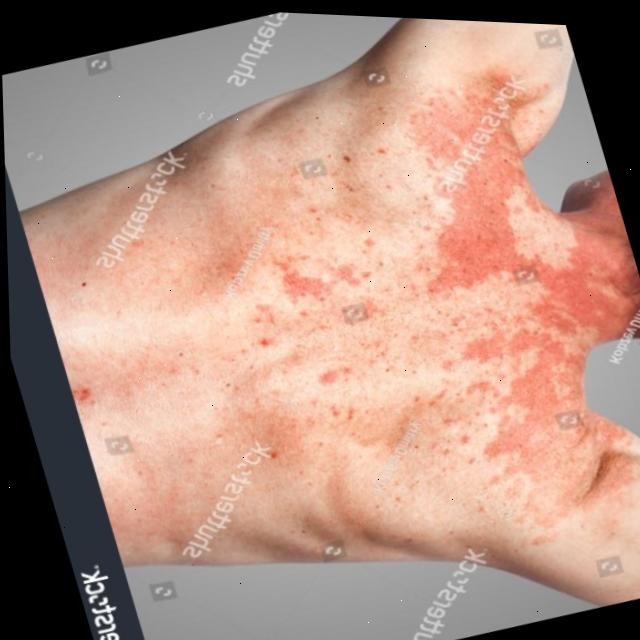Eczema: (331, 39, 640, 458)
